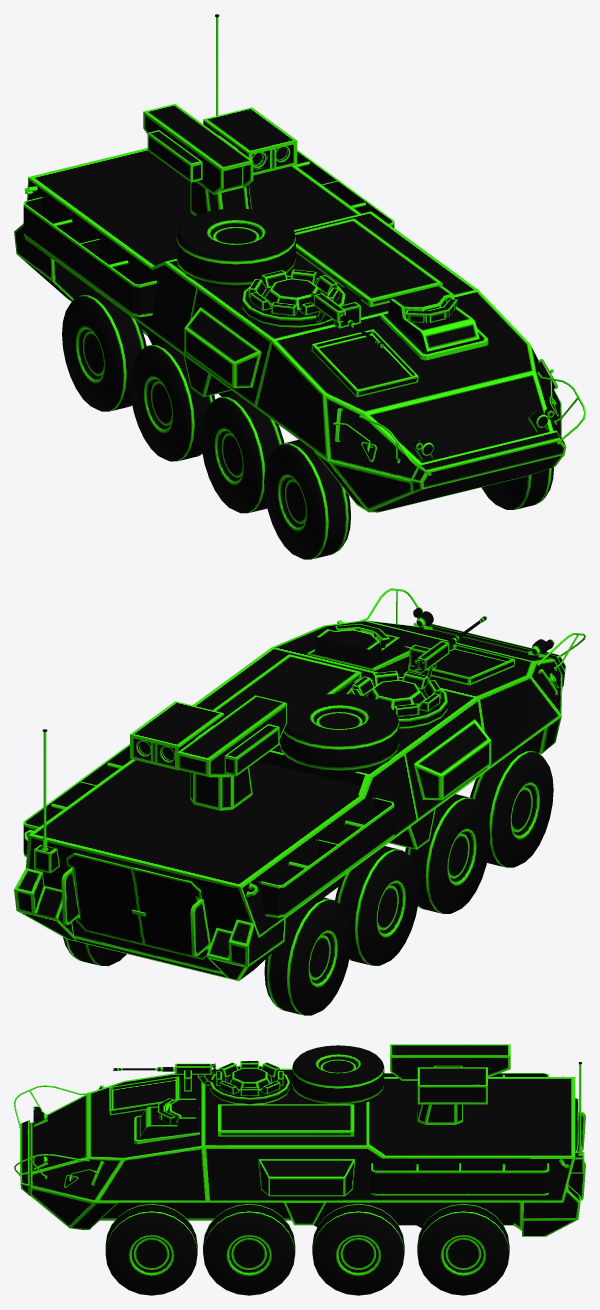
File: TOW_stryker.fbx
3 views of the same model, one above another, from view 1: azimuth 30°, elevation 25°; view 2: azimuth 150°, elevation 25°; view 3: azimuth 270°, elevation 25° (orthographic). The views are drawn at different scales.
Parts seen in each view (by area): view 1: TOW_Hull, TOW_Turret, TOW_RightTire1, TOW_RightTire4, TOW_RightTire2, TOW_RightTire3, TOW_LeftTire1; view 2: TOW_Hull, TOW_Turret, TOW_RightTire4, TOW_RightTire3, TOW_RightTire1, TOW_RightTire2, TOW_LeftTire4; view 3: TOW_Hull, TOW_Turret, TOW_LeftTire1, TOW_LeftTire4, TOW_LeftTire2, TOW_LeftTire3.
Boxes of the visible parts, left/top/right/bottom form: TOW_Hull: left=14, top=14, right=585, bottom=512; TOW_Turret: left=143, top=104, right=297, bottom=215; TOW_RightTire1: left=264, top=439, right=350, bottom=559; TOW_RightTire4: left=62, top=292, right=146, bottom=411; TOW_RightTire2: left=200, top=393, right=284, bottom=513; TOW_RightTire3: left=130, top=341, right=215, bottom=461; TOW_LeftTire1: left=481, top=467, right=553, bottom=509; TOW_Hull: left=14, top=588, right=585, bottom=981; TOW_Turret: left=130, top=695, right=286, bottom=810; TOW_RightTire4: left=264, top=896, right=351, bottom=1015; TOW_RightTire3: left=335, top=846, right=419, bottom=965; TOW_RightTire1: left=470, top=748, right=553, bottom=867; TOW_RightTire2: left=405, top=794, right=490, bottom=913; TOW_LeftTire4: left=63, top=937, right=126, bottom=966; TOW_Hull: left=14, top=1045, right=585, bottom=1236; TOW_Turret: left=390, top=1044, right=510, bottom=1124; TOW_LeftTire1: left=105, top=1203, right=197, bottom=1295; TOW_LeftTire4: left=417, top=1203, right=509, bottom=1295; TOW_LeftTire2: left=203, top=1203, right=295, bottom=1295; TOW_LeftTire3: left=312, top=1203, right=404, bottom=1295.
Bounding box in the file's own units: 199 × 210 × 488.
